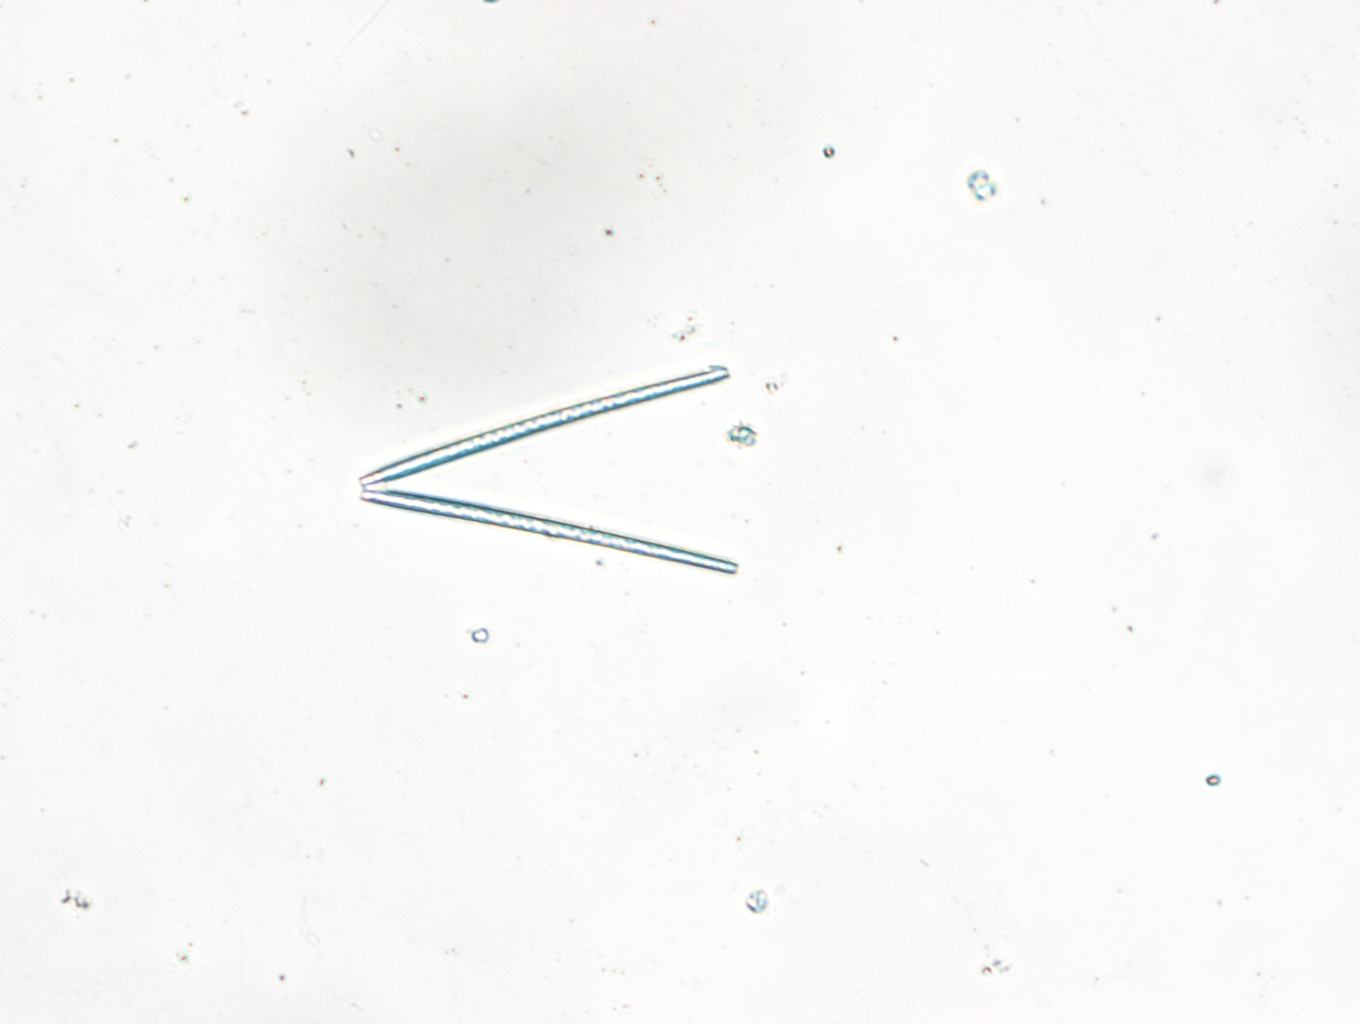thalassionema frauenfeldii: (350, 349, 746, 584)
